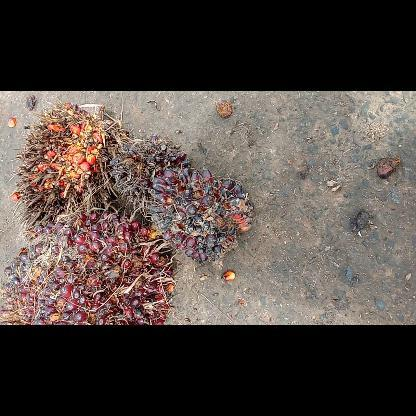TBS abnormal: (147, 166, 255, 268), (107, 132, 191, 221)
TBS masak: (0, 210, 176, 324)
Terlalu masak: (12, 102, 124, 238)
